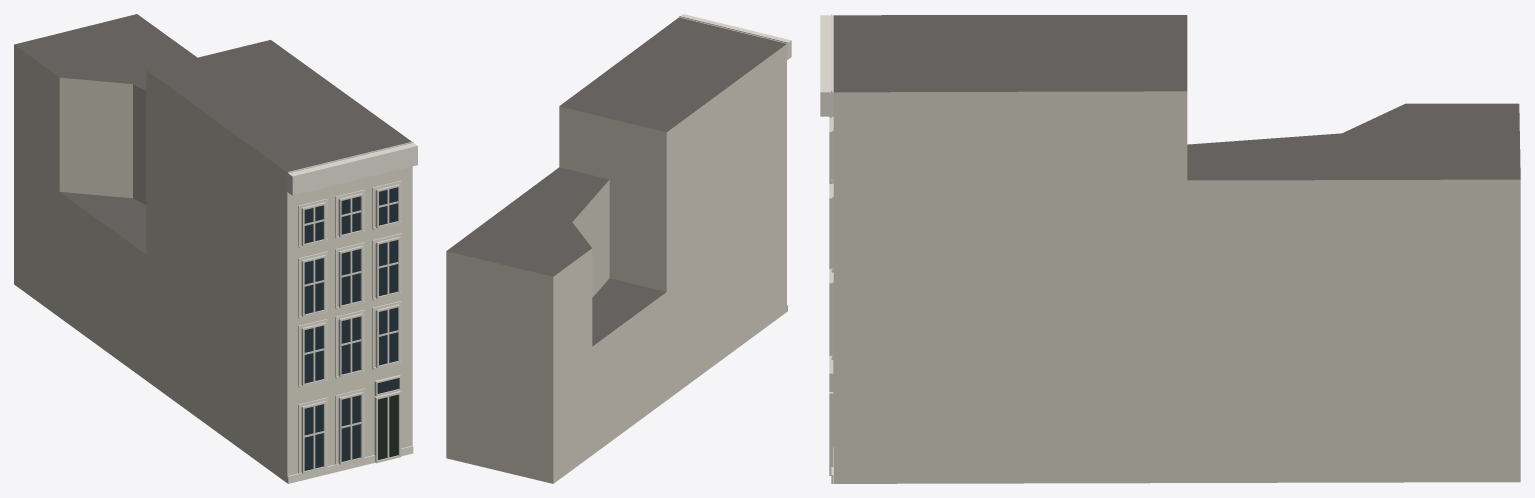
The picture shows the model from 3 angles, left to right: view 1: azimuth 30°, elevation 25°; view 2: azimuth 150°, elevation 25°; view 3: azimuth 270°, elevation 25°; orthographic projection. The views are drawn at different scales.
Visible parts, largest first — view 1: spec-0363100012177543; view 2: spec-0363100012177543; view 3: spec-0363100012177543.
Boxes of the visible parts, x1,y1,x2,y2 form: spec-0363100012177543: (14,14,417,483); spec-0363100012177543: (446,14,791,483); spec-0363100012177543: (820,14,1520,483).
Size of the model in its own units: 5.48 by 12.9 by 20.85.
